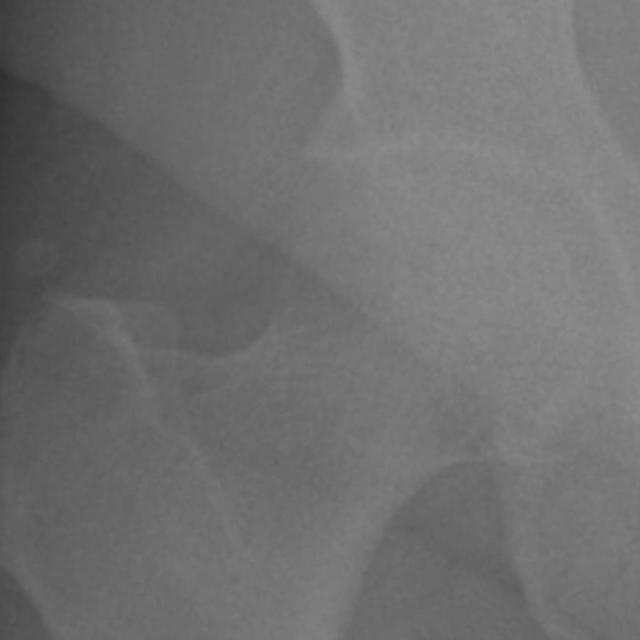Fitted_femural_head: (314, 173, 432, 314)
